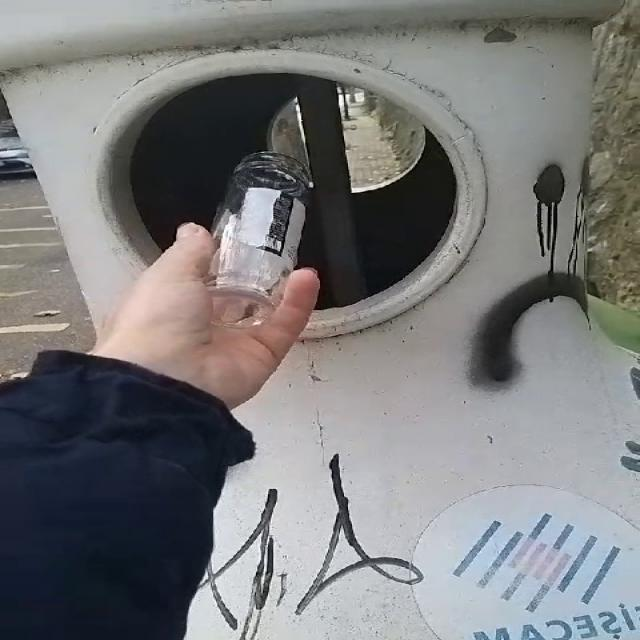Glass: (208, 151, 309, 328)
